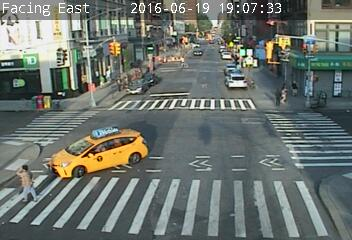neg: (234, 40, 247, 58), (190, 53, 202, 68), (265, 32, 276, 47), (151, 72, 162, 86)
pos: (6, 159, 39, 203), (272, 80, 290, 104), (289, 78, 302, 95)
